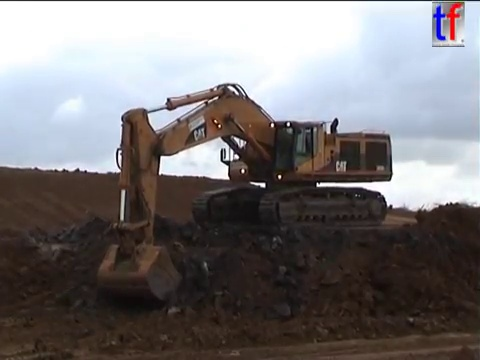excavator: (94, 81, 395, 304)
